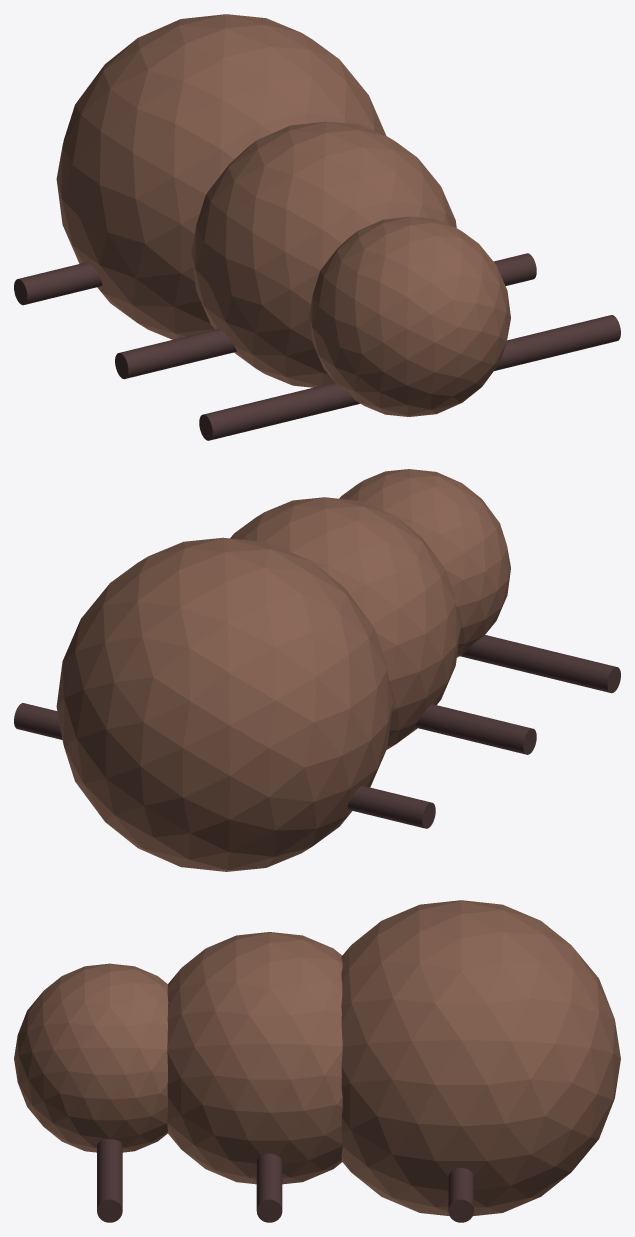
Rendered from worker_ant.glb.
3 views of the same model, one above another, from view 1: azimuth 30°, elevation 25°; view 2: azimuth 150°, elevation 25°; view 3: azimuth 270°, elevation 25° (orthographic). The views are drawn at different scales.
Parts seen in each view (by area): view 1: world; view 2: world; view 3: world.
Boxes of the visible parts, x1,y1,x2,y2 form: world: (14, 14, 620, 440); world: (14, 469, 620, 871); world: (14, 900, 620, 1222).
Size of the model in its own units: 0.7 by 0.5 by 0.95.
